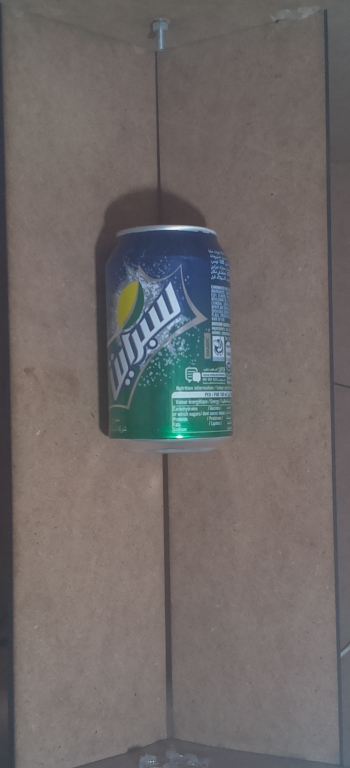Canette: (94, 218, 243, 466)
